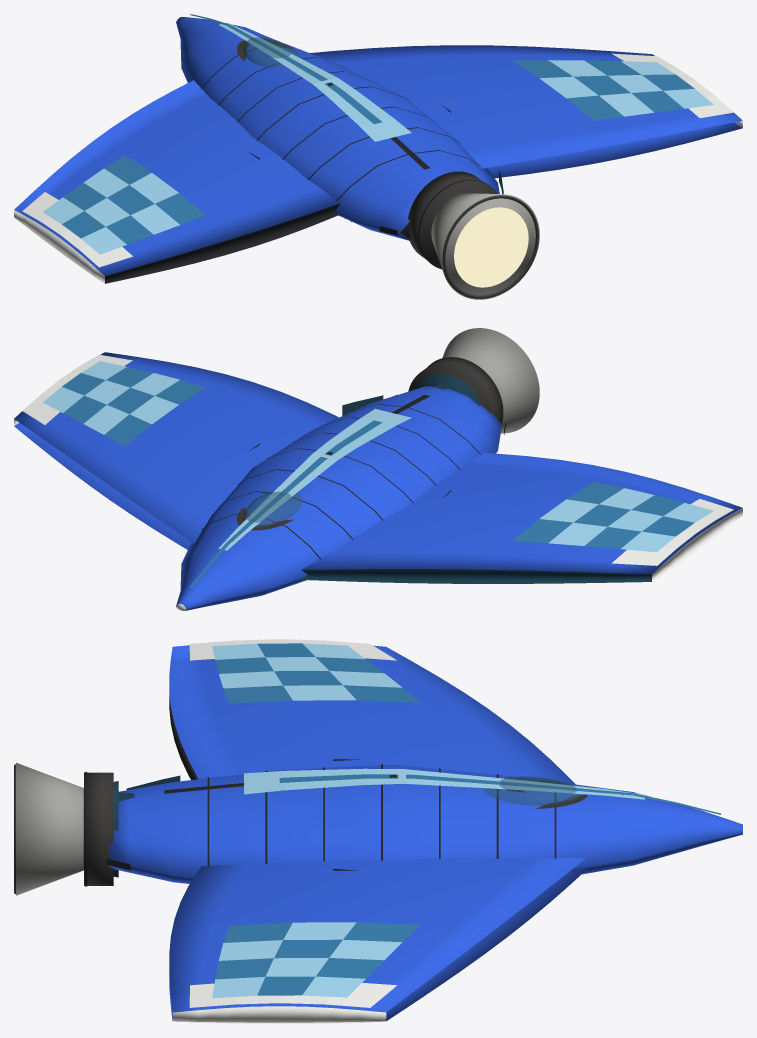
File: Ship_ManraRay_190663.glb
3 renders of one model, top to bottom at view 1: azimuth 30°, elevation 25°; view 2: azimuth 150°, elevation 25°; view 3: azimuth 270°, elevation 25°, orthographic. The views are drawn at different scales.
Visible parts, largest first — view 1: Wing_Left_MantaAerofoil, Fuselage_CentralRayHull_FacetedAeroBody, Wing_Right_MantaAerofoil, EngineEmitter, EngineBell_CentralMainRocketNozzle, PaintDorsalSweep_PrimaryMantaArrow, EngineMount_AftCentralTailBlock, WingTipTrim_Left_HardCutOuterPlate_Top, WingTipTrim_Right_HardCutOuterPlate_Top, CanopyGlass_LowInsetMantaDome, EngineBell_CentralDarkLip, PaintDorsalSweep_SecondaryNeedleLine (+24 smaller); view 2: Fuselage_CentralRayHull_FacetedAeroBody, Wing_Left_MantaAerofoil, Wing_Right_MantaAerofoil, EngineBell_CentralMainRocketNozzle, PaintDorsalSweep_PrimaryMantaArrow, EngineMount_AftCentralTailBlock, WingTipTrim_Left_HardCutOuterPlate_Top, CanopyGlass_LowInsetMantaDome, WingTipTrim_Right_HardCutOuterPlate_Top, PaintDorsalSweep_SecondaryNeedleLine, PaintOuterChecker_Left_01_03_Top, PaintOuterChecker_Left_02_03_Top (+23 smaller); view 3: Fuselage_CentralRayHull_FacetedAeroBody, Wing_Right_MantaAerofoil, Wing_Left_MantaAerofoil, EngineBell_CentralMainRocketNozzle, PaintDorsalSweep_PrimaryMantaArrow, EngineMount_AftCentralTailBlock, WingTipTrim_Right_HardCutOuterPlate_Top, CanopyGlass_LowInsetMantaDome, PaintDorsalSweep_SecondaryNeedleLine, WingTipTrim_Left_HardCutOuterPlate_Top, PaintOuterChecker_Right_01_03_Top, PaintOuterChecker_Right_02_03_Top (+22 smaller).
Boxes of the visible parts, x1,y1,x2,y2 form: Wing_Left_MantaAerofoil: [14, 80, 340, 283]; Fuselage_CentralRayHull_FacetedAeroBody: [176, 17, 499, 240]; Wing_Right_MantaAerofoil: [310, 45, 742, 178]; EngineEmitter: [454, 207, 528, 287]; EngineBell_CentralMainRocketNozzle: [431, 193, 539, 299]; PaintDorsalSweep_PrimaryMantaArrow: [219, 22, 411, 141]; EngineMount_AftCentralTailBlock: [408, 171, 496, 268]; WingTipTrim_Left_HardCutOuterPlate_Top: [22, 192, 132, 267]; WingTipTrim_Right_HardCutOuterPlate_Top: [612, 53, 733, 117]; CanopyGlass_LowInsetMantaDome: [243, 37, 301, 67]; EngineBell_CentralDarkLip: [442, 195, 538, 298]; PaintDorsalSweep_SecondaryNeedleLine: [189, 14, 382, 124]; Fuselage_CentralRayHull_FacetedAeroBody: [176, 386, 501, 610]; Wing_Left_MantaAerofoil: [300, 452, 742, 583]; Wing_Right_MantaAerofoil: [14, 352, 338, 549]; EngineBell_CentralMainRocketNozzle: [442, 328, 539, 433]; PaintDorsalSweep_PrimaryMantaArrow: [218, 409, 411, 550]; EngineMount_AftCentralTailBlock: [408, 357, 503, 422]; WingTipTrim_Left_HardCutOuterPlate_Top: [612, 499, 733, 565]; CanopyGlass_LowInsetMantaDome: [243, 491, 301, 527]; WingTipTrim_Right_HardCutOuterPlate_Top: [22, 354, 132, 424]; PaintDorsalSweep_SecondaryNeedleLine: [189, 420, 382, 587]; PaintOuterChecker_Left_01_03_Top: [512, 519, 572, 543]; PaintOuterChecker_Left_02_03_Top: [548, 522, 606, 545]; Fuselage_CentralRayHull_FacetedAeroBody: [109, 764, 742, 883]; Wing_Right_MantaAerofoil: [169, 857, 587, 1022]; Wing_Left_MantaAerofoil: [169, 645, 575, 784]; EngineBell_CentralMainRocketNozzle: [16, 763, 83, 895]; PaintDorsalSweep_PrimaryMantaArrow: [244, 768, 644, 799]; EngineMount_AftCentralTailBlock: [84, 772, 113, 885]; WingTipTrim_Right_HardCutOuterPlate_Top: [189, 982, 396, 1007]; CanopyGlass_LowInsetMantaDome: [484, 776, 580, 805]; PaintDorsalSweep_SecondaryNeedleLine: [279, 774, 720, 814]; WingTipTrim_Left_HardCutOuterPlate_Top: [189, 639, 396, 660]; PaintOuterChecker_Right_01_03_Top: [343, 922, 420, 942]; PaintOuterChecker_Right_02_03_Top: [329, 939, 402, 960].
Bounding box in the file's own units: 7.74 × 1.19 × 6.52.
